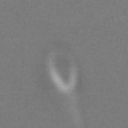normal: (61, 93, 88, 128)
